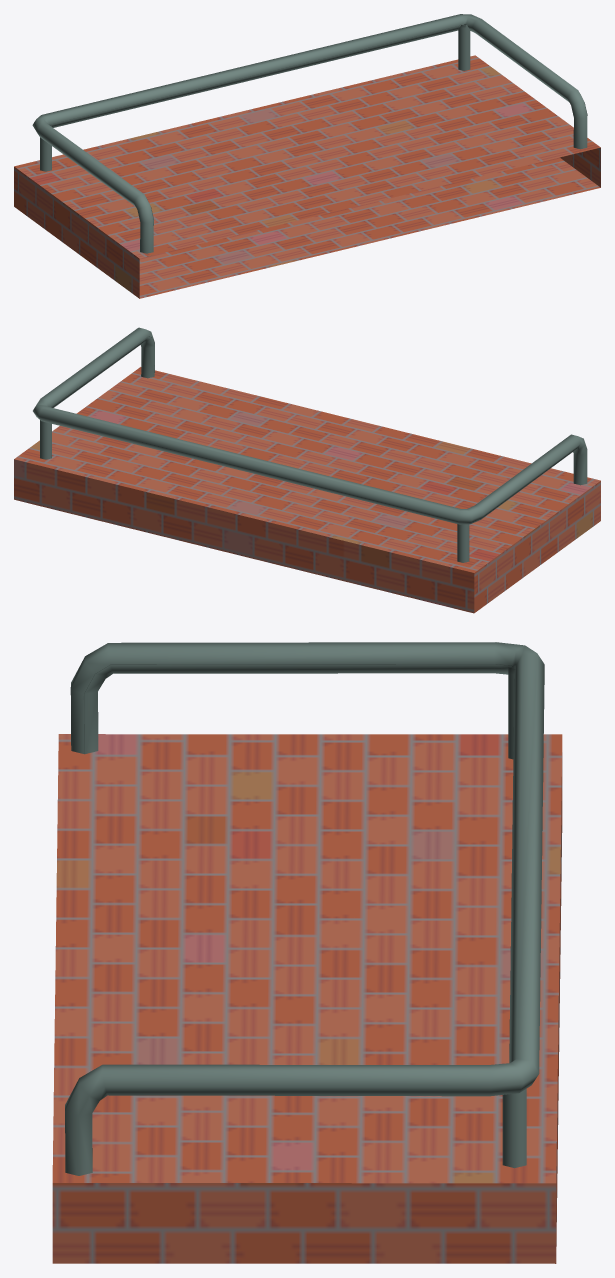
Rendered from Props_Balcon 1.fbx.
3 renders of one model, top to bottom at view 1: azimuth 30°, elevation 25°; view 2: azimuth 150°, elevation 25°; view 3: azimuth 270°, elevation 25°, orthographic. The views are drawn at different scales.
Parts seen in each view (by area): view 1: Balcon_Suelto; view 2: Balcon_Suelto; view 3: Balcon_Suelto.
Boxes of the visible parts, x1,y1,x2,y2 form: Balcon_Suelto: [14, 14, 600, 298]; Balcon_Suelto: [14, 327, 600, 613]; Balcon_Suelto: [52, 642, 562, 1263].
Bounding box in the file's own units: 701 × 133 × 336.
